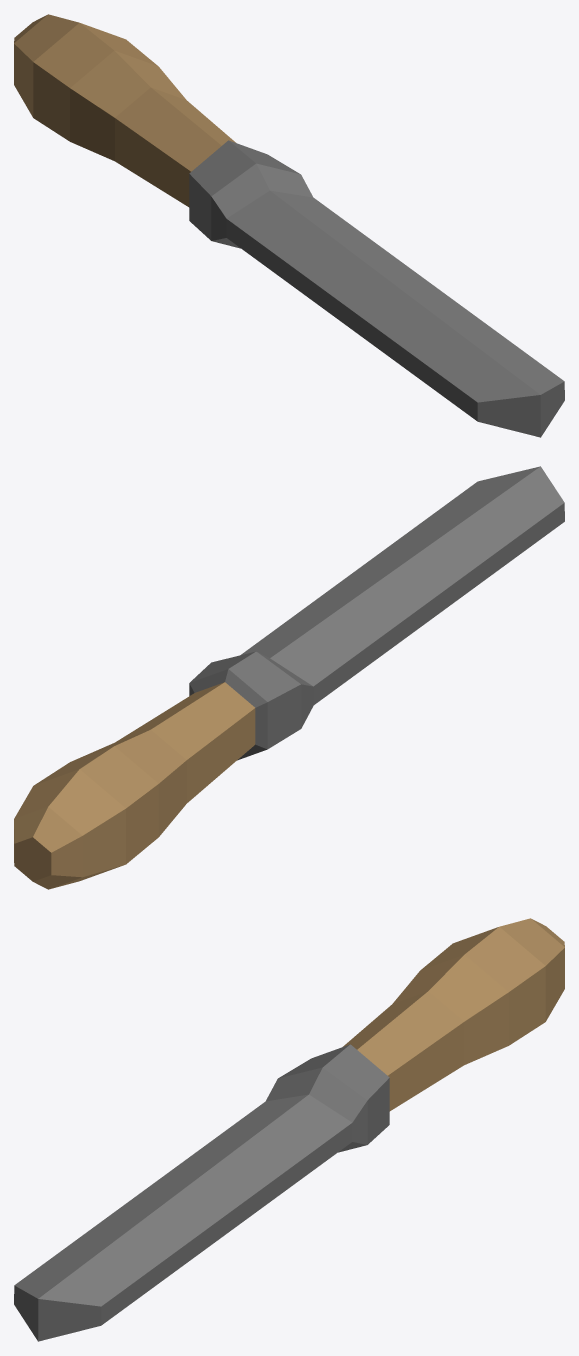
File: knife.fbx
The picture shows the model from 3 angles, top to bottom: view 1: azimuth 30°, elevation 25°; view 2: azimuth 150°, elevation 25°; view 3: azimuth 330°, elevation 25°; orthographic projection.
Visible parts, largest first — view 1: HandRasp; view 2: HandRasp; view 3: HandRasp.
Part boxes in pixels (<box>): HandRasp: <box>14,14,564,437</box>; HandRasp: <box>14,466,564,889</box>; HandRasp: <box>14,918,564,1341</box>.
Bounding box in the file's own units: 2.2 × 2.54 × 20.84.
